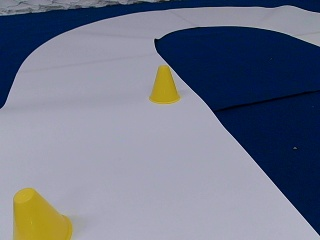cone: (11, 188, 72, 237), (148, 65, 179, 103)
